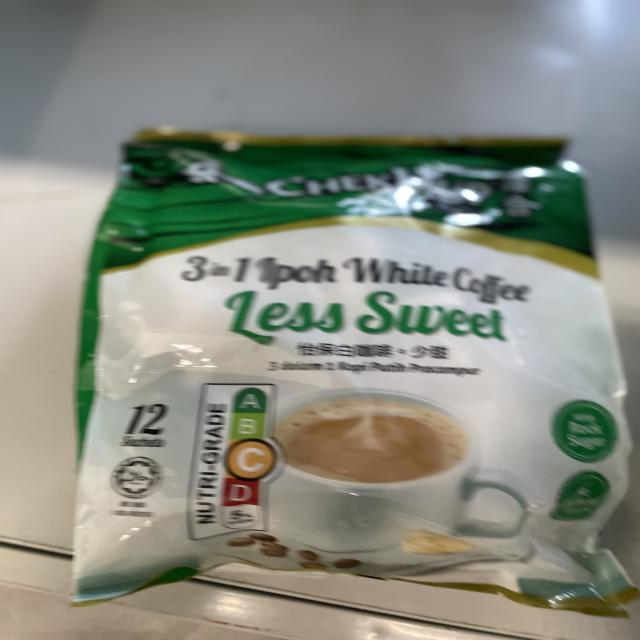object_name: (106, 143, 590, 602)
